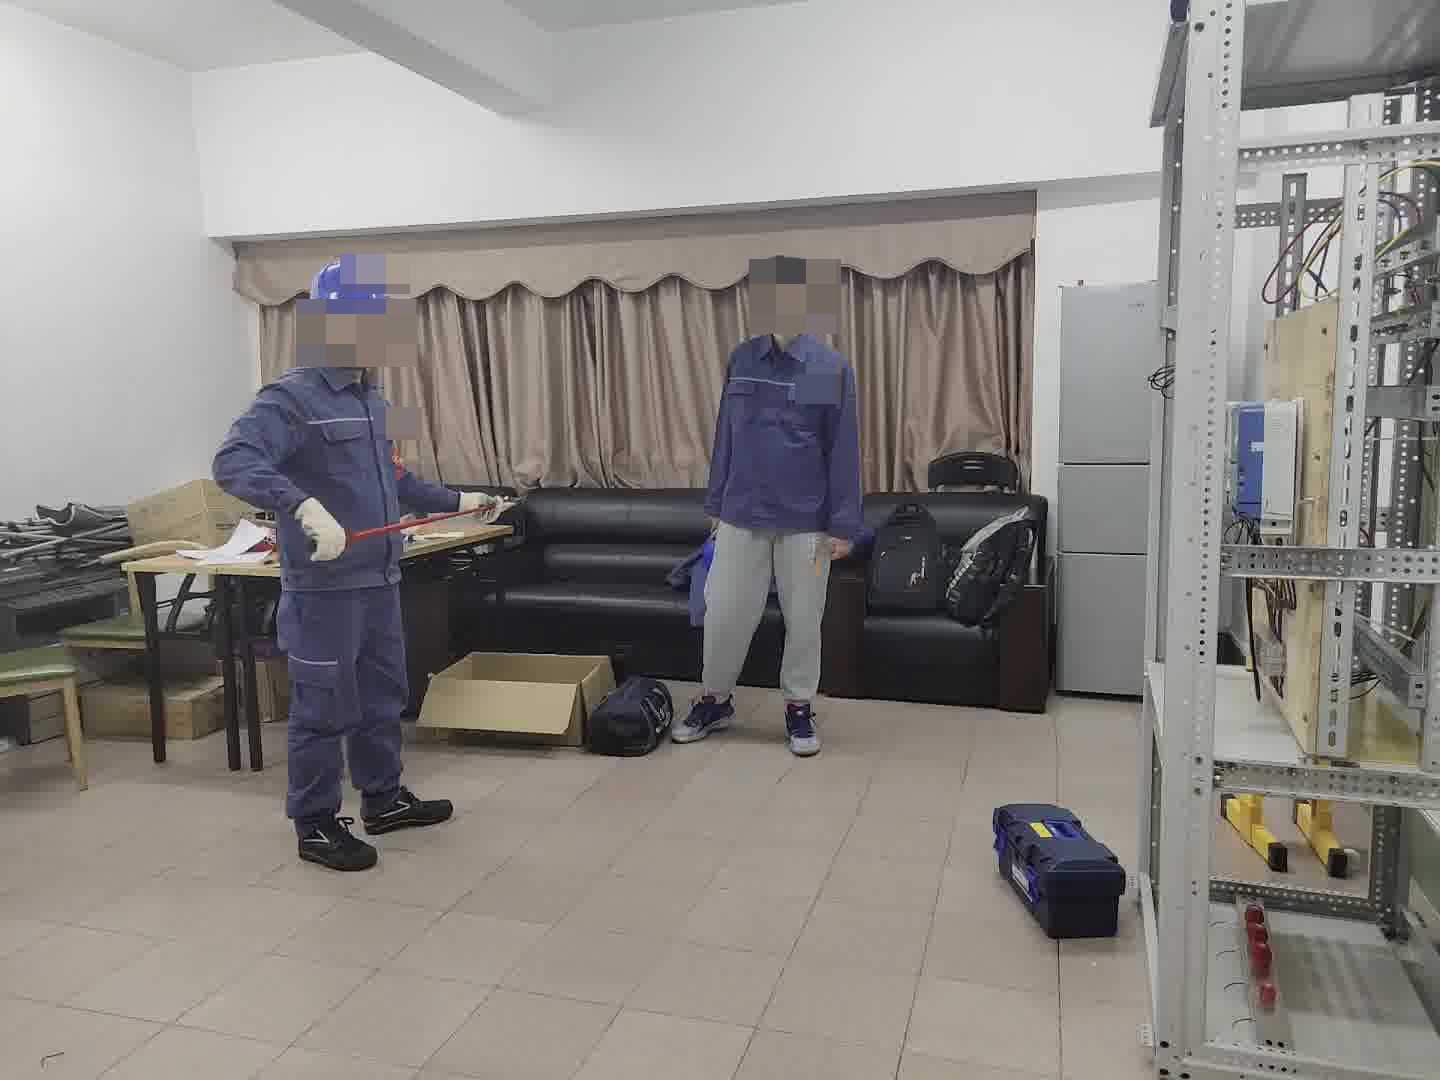downcloth: (706, 524, 828, 701)
downsuit: (275, 593, 415, 821)
halt: (302, 258, 401, 365), (741, 254, 822, 338)
hand: (824, 539, 852, 559)
inear: (308, 310, 327, 351)
person: (212, 252, 472, 865), (689, 249, 875, 735)
testrod: (340, 505, 507, 541)
upsuit: (212, 356, 459, 565), (707, 334, 867, 531)
wglove: (299, 504, 350, 563), (458, 487, 505, 523)
